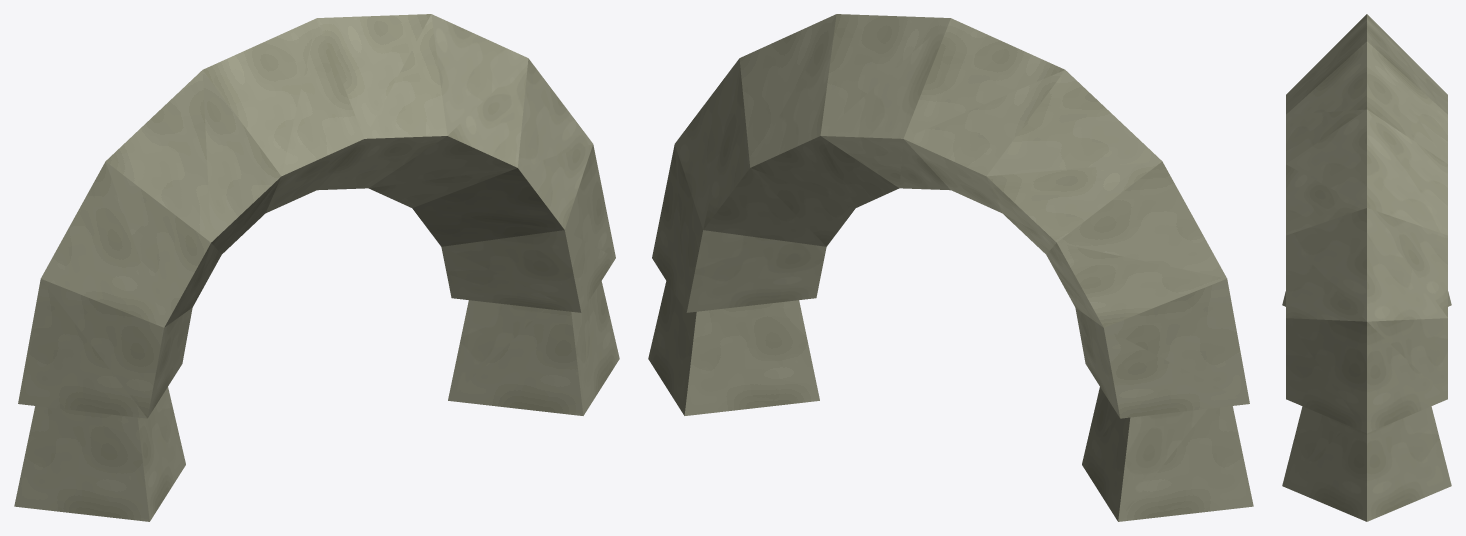
The model's file is pedra-arco-v02.gltf.
3 views of the same model, side by side, from view 1: azimuth 30°, elevation 25°; view 2: azimuth 150°, elevation 25°; view 3: azimuth 270°, elevation 25° (orthographic). The views are drawn at different scales.
Parts seen in each view (by area): view 1: forma, rocha; view 2: forma, rocha; view 3: forma, rocha.
Part boxes in pixels (x1,y1,x2,y2): forma: (18,14,615,418); rocha: (14,281,619,521); forma: (652,14,1249,418); rocha: (648,281,1253,521); forma: (1286,14,1447,433); rocha: (1282,291,1451,521).
Bounding box in the file's own units: 1.62 × 1.06 × 0.46.
Materials: 1 (1 with a texture image).
